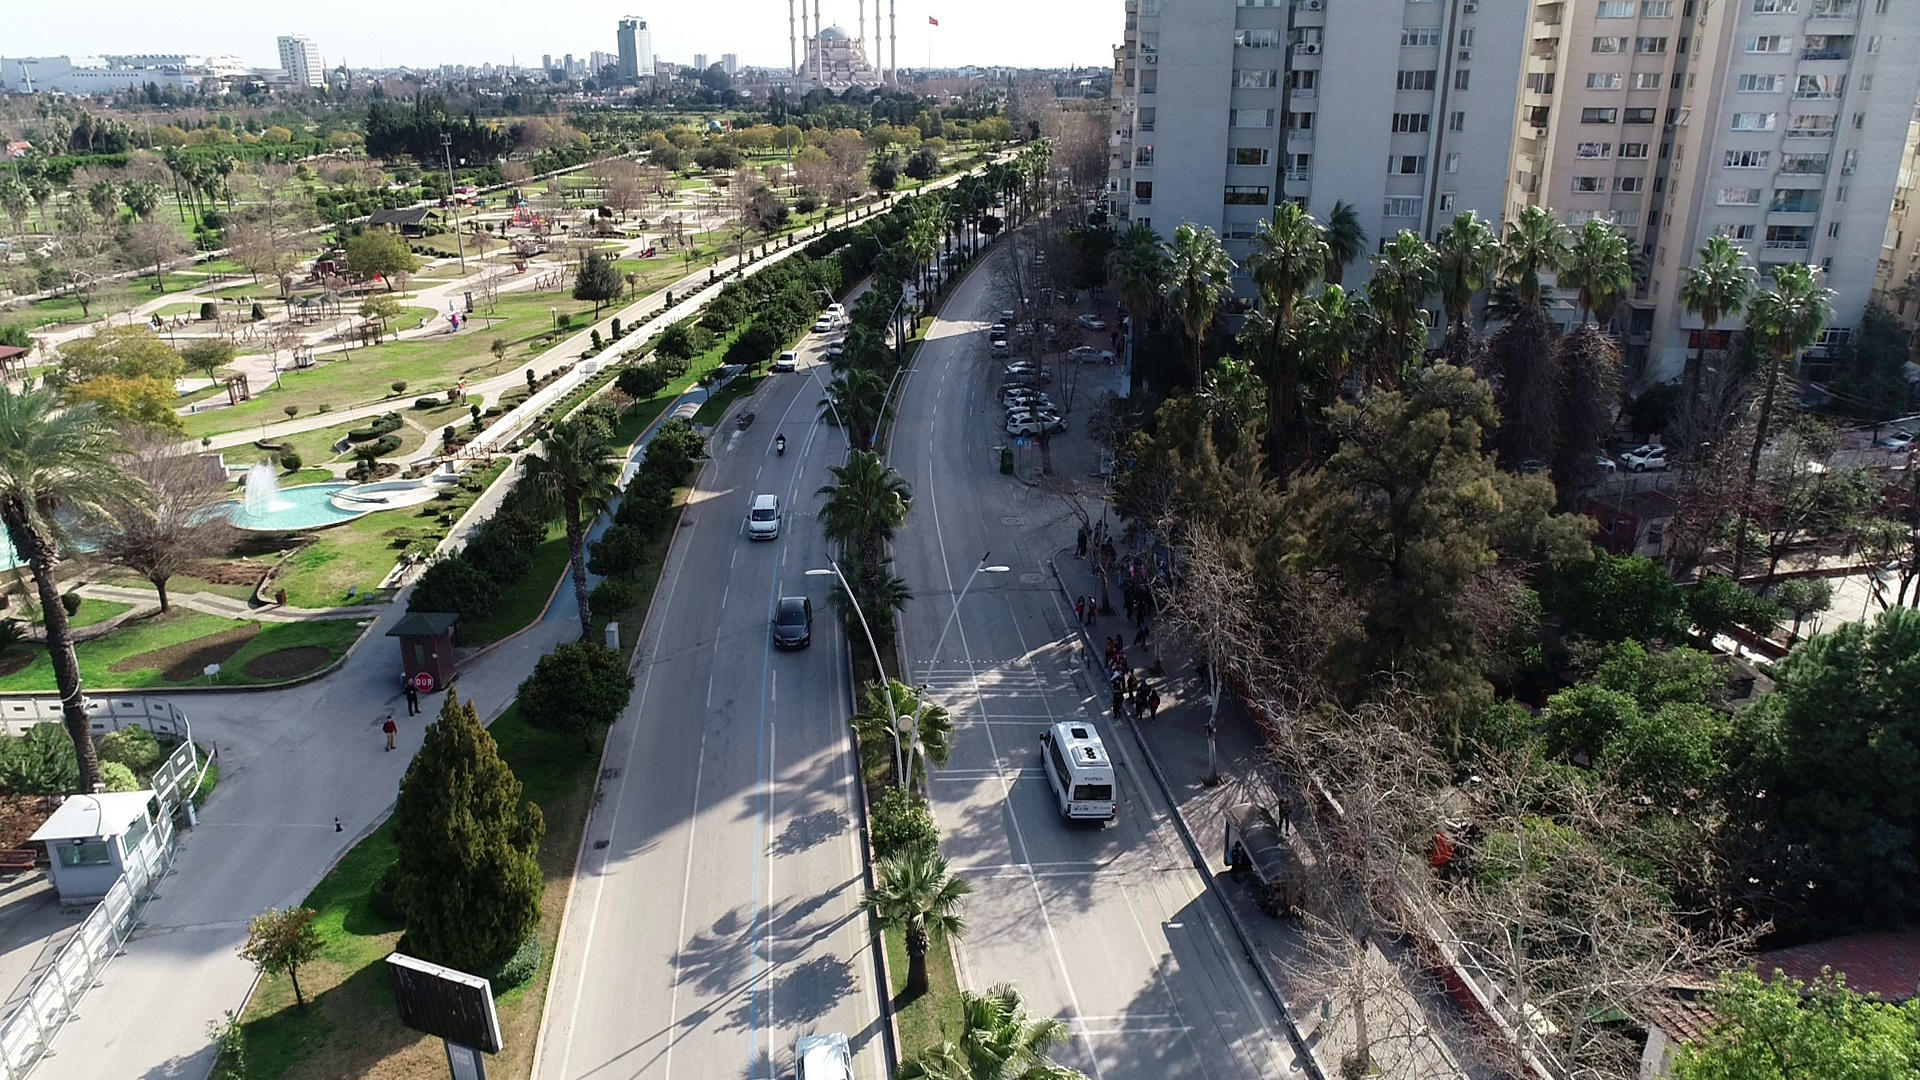bus: (1033, 717, 1121, 829)
car: (767, 591, 822, 656), (1617, 439, 1681, 476), (746, 491, 787, 543), (1006, 411, 1070, 437), (1000, 387, 1052, 411), (1065, 343, 1115, 367), (771, 348, 805, 374), (1075, 311, 1109, 334), (826, 338, 852, 363), (989, 339, 1011, 359), (814, 313, 836, 331), (988, 323, 1012, 339)
person: (400, 677, 427, 716), (1230, 838, 1247, 883), (381, 715, 402, 752), (1277, 791, 1294, 835), (1134, 619, 1154, 651), (1148, 688, 1164, 725), (1085, 594, 1102, 626), (1134, 687, 1148, 721), (1112, 686, 1126, 718), (1103, 635, 1115, 667), (1074, 594, 1087, 624), (460, 314, 472, 331), (1111, 327, 1120, 345)
